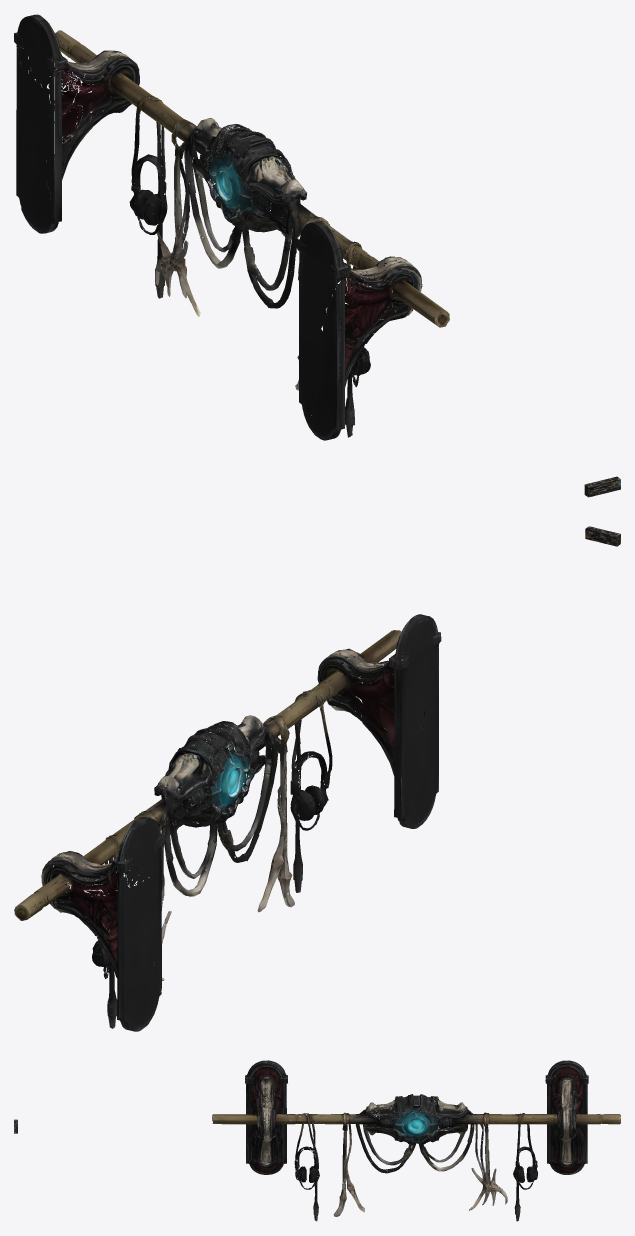
The model's file is evac_mixed_crew_translation_rail.glb.
3 views of the same model, one above another, from view 1: azimuth 30°, elevation 25°; view 2: azimuth 150°, elevation 25°; view 3: azimuth 270°, elevation 25° (orthographic). The views are drawn at different scales.
Visible parts, largest first — view 1: node_0; view 2: node_0; view 3: node_0.
Boxes of the visible parts, x1,y1,x2,y2 form: node_0: [14, 14, 449, 440]; node_0: [14, 614, 441, 1031]; node_0: [212, 1060, 620, 1221].
Size of the model in its own units: 0.1807 by 0.4477 by 1.75.
Materials: 1 (1 with a texture image).
